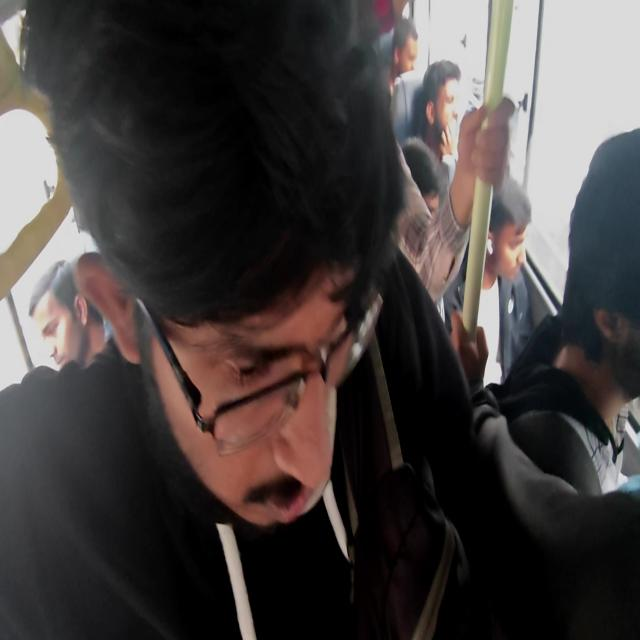person: (145, 253, 353, 533), (567, 132, 640, 337), (28, 259, 103, 375), (485, 174, 534, 288), (426, 63, 465, 145), (400, 138, 440, 215), (391, 15, 418, 77)
